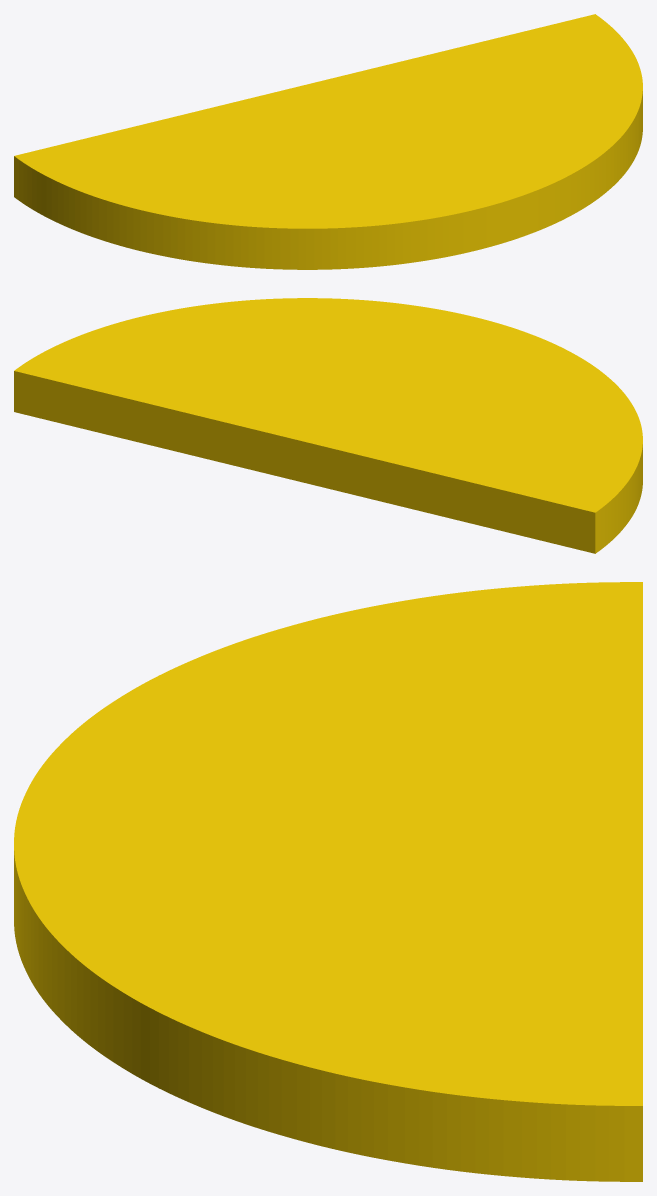
The model's file is save50.gltf.
3 renders of one model, top to bottom at view 1: azimuth 30°, elevation 25°; view 2: azimuth 150°, elevation 25°; view 3: azimuth 270°, elevation 25°, orthographic. The views are drawn at different scales.
Visible parts, largest first — view 1: 50save; view 2: 50save; view 3: 50save.
Part boxes in pixels (bbox=[...]): 50save: bbox=[14, 14, 642, 269]; 50save: bbox=[14, 298, 642, 553]; 50save: bbox=[14, 582, 642, 1181].
Size of the model in its own units: 3.92 by 0.2649 by 1.99.
